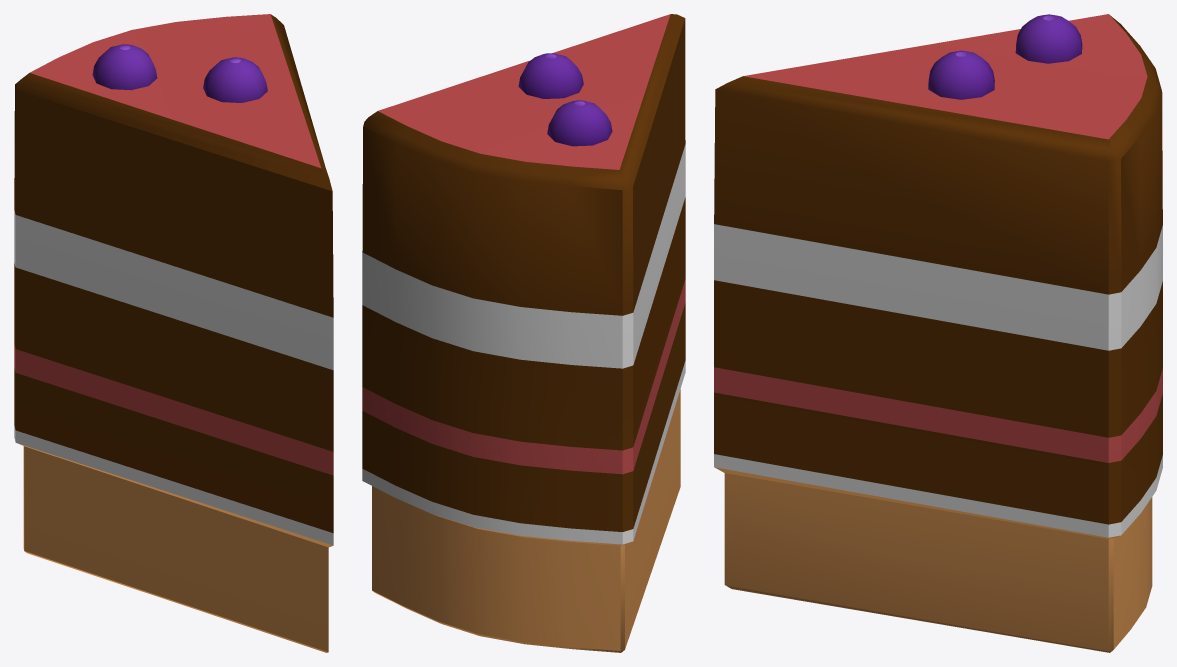
Rendered from Cake_3 Half_2.fbx.
3 renders of one model, left to right at view 1: azimuth 30°, elevation 25°; view 2: azimuth 150°, elevation 25°; view 3: azimuth 270°, elevation 25°, orthographic. The views are drawn at different scales.
Visible parts, largest first — view 1: Cake_3 Half_2; view 2: Cake_3 Half_2; view 3: Cake_3 Half_2.
Boxes of the visible parts, box(x1,y1,x2,y2) form: Cake_3 Half_2: box(14, 14, 333, 652); Cake_3 Half_2: box(362, 14, 685, 652); Cake_3 Half_2: box(714, 14, 1162, 652).
Size of the model in its own units: 0.1012 by 0.1836 by 0.1372.
